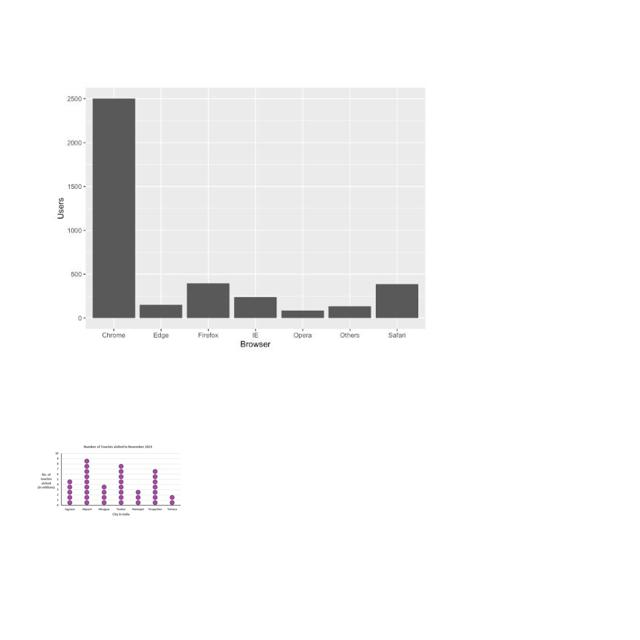Graph: (52, 82, 428, 351), (36, 443, 181, 518)
